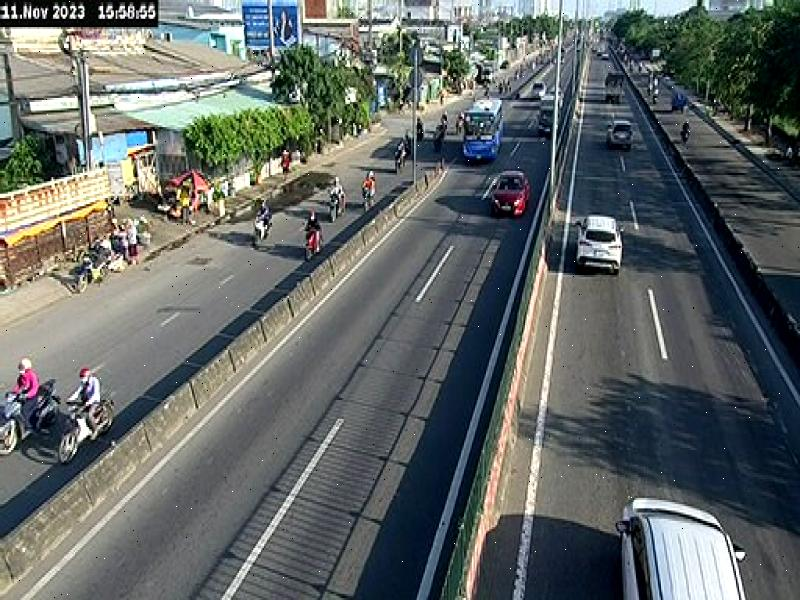bus: (457, 94, 506, 170)
